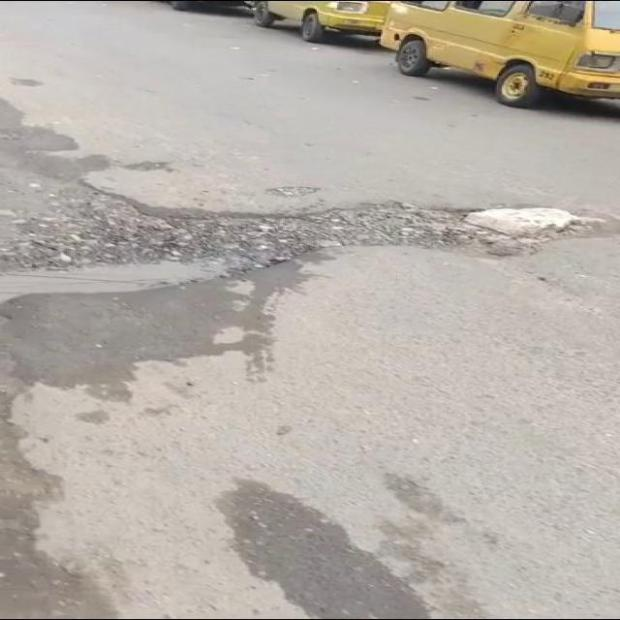lubang: (0, 191, 505, 273)
